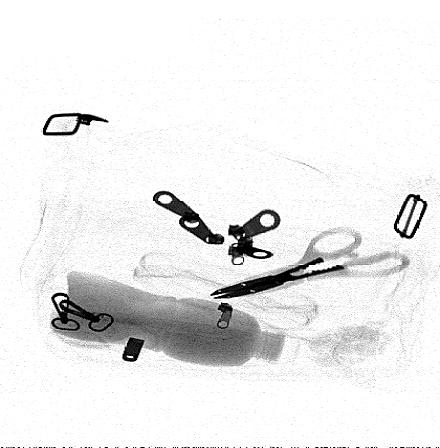Scissors: (206, 223, 411, 303)
